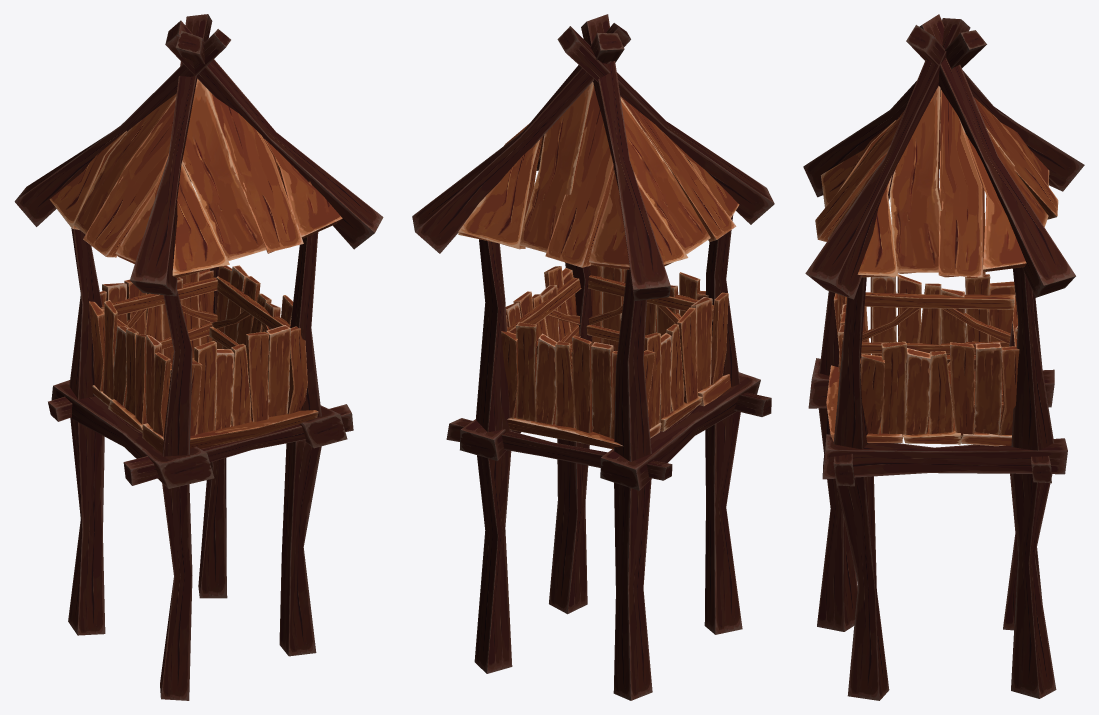
Rendered from SM_PROP_watchtower_wood_01.glb.
The picture shows the model from 3 angles, left to right: view 1: azimuth 30°, elevation 25°; view 2: azimuth 150°, elevation 25°; view 3: azimuth 270°, elevation 25°; orthographic projection. The views are drawn at different scales.
Visible parts, largest first — view 1: SM_PROP_watchtower_wood_01_EXPORT; view 2: SM_PROP_watchtower_wood_01_EXPORT; view 3: SM_PROP_watchtower_wood_01_EXPORT.
Boxes of the visible parts, x1=… form: SM_PROP_watchtower_wood_01_EXPORT: x1=14, y1=14, x2=383, y2=700; SM_PROP_watchtower_wood_01_EXPORT: x1=412, y1=14, x2=774, y2=700; SM_PROP_watchtower_wood_01_EXPORT: x1=803, y1=14, x2=1084, y2=700.
Size of the model in its own units: 5.01 by 11.21 by 4.48.
Materials: 2 (2 with a texture image).
